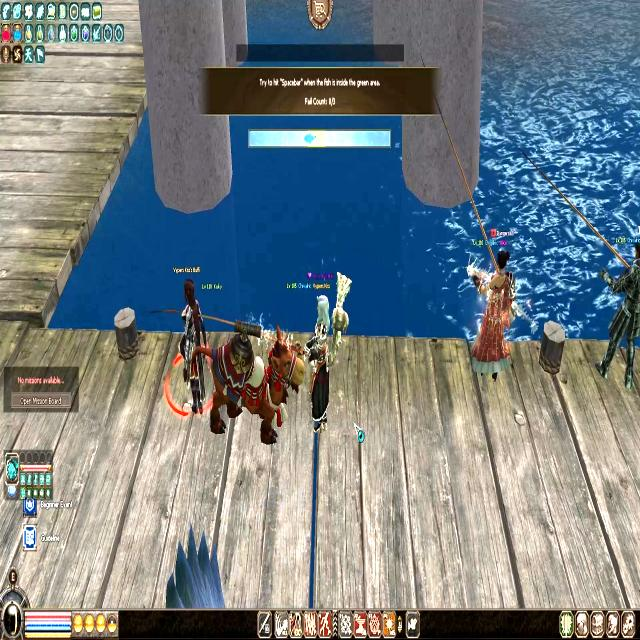fishes: (304, 130, 316, 146)
